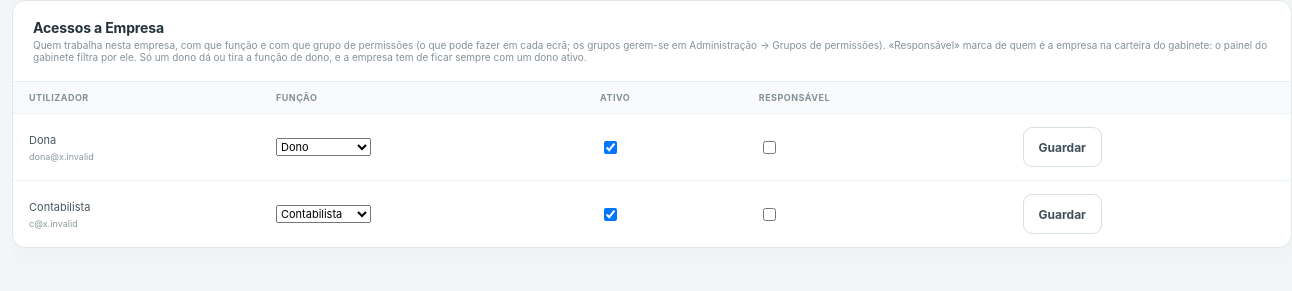
acessos a uma empresa › mostra a recusa do servidor
Select "Administrador" in the dropdown named "Função de Dona": (323, 147) [276, 138, 371, 156]
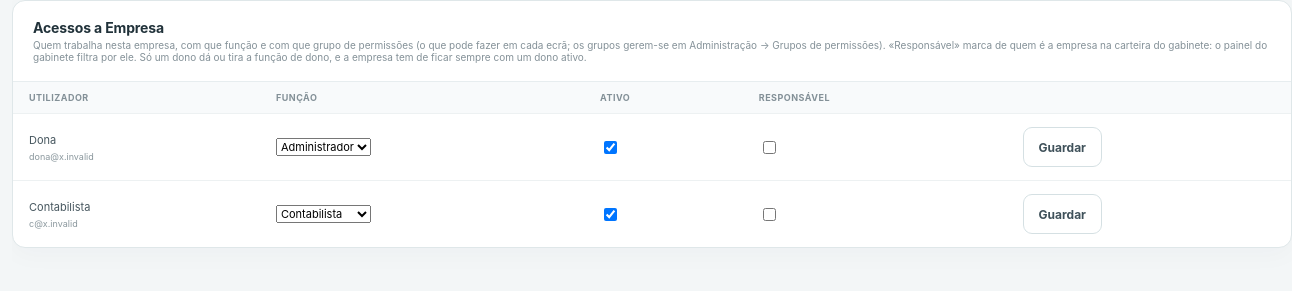
Click the button "Guardar" in the row of "dona@x.invalid": (1062, 147) [1022, 127, 1102, 167]
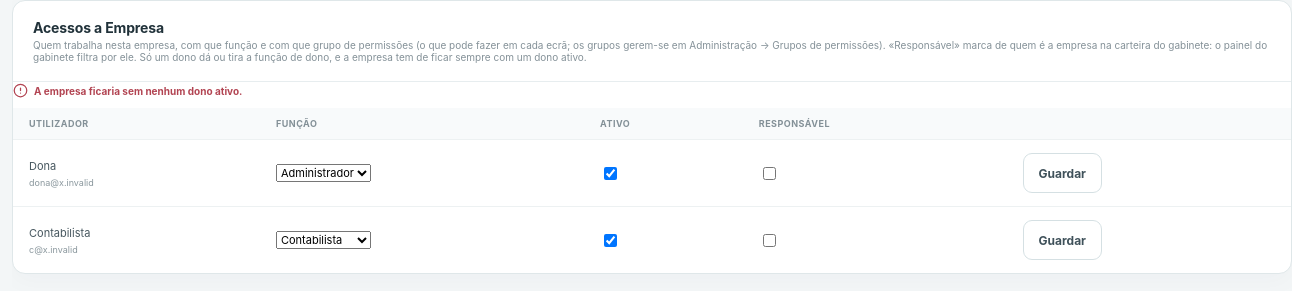
Result: the text "A empresa ficaria sem nenhum dono ativo." is shown at [13, 83, 242, 98]
